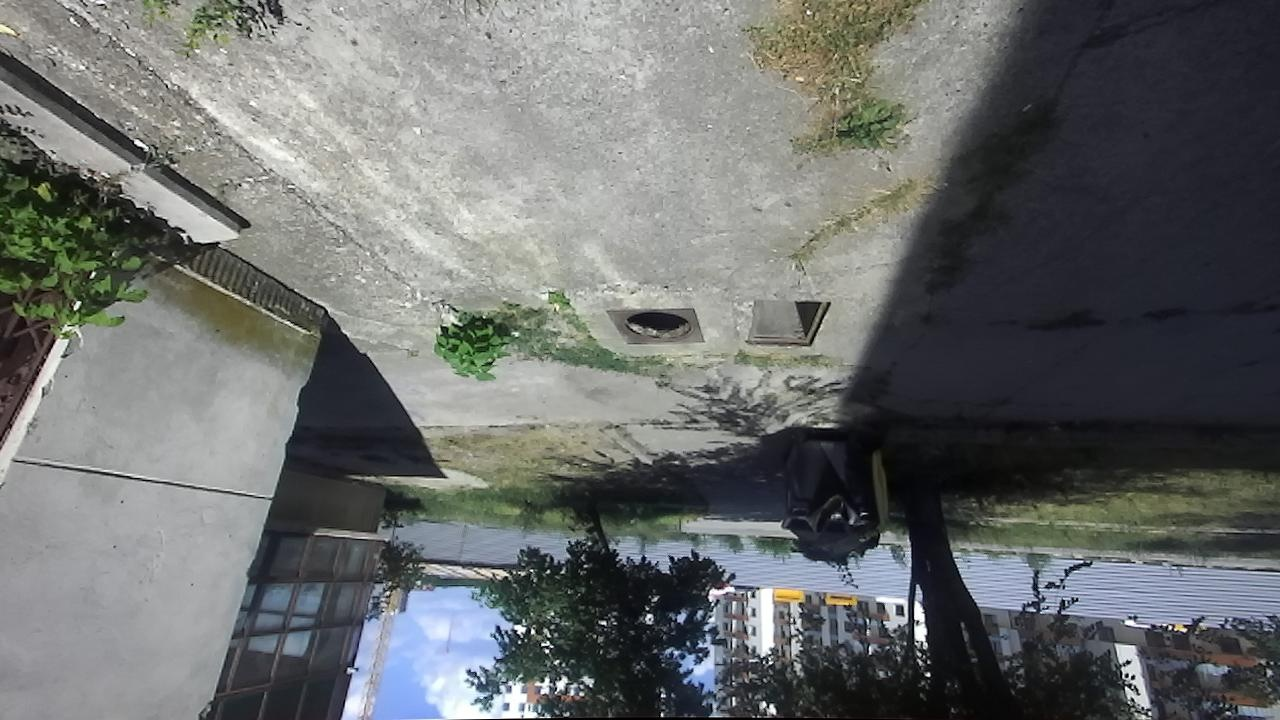drain: (746, 298, 836, 348), (617, 306, 697, 346)
